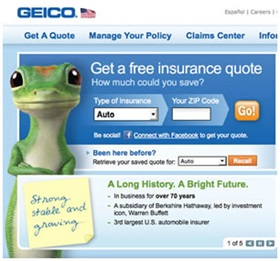Geico: (16, 5, 79, 20)
